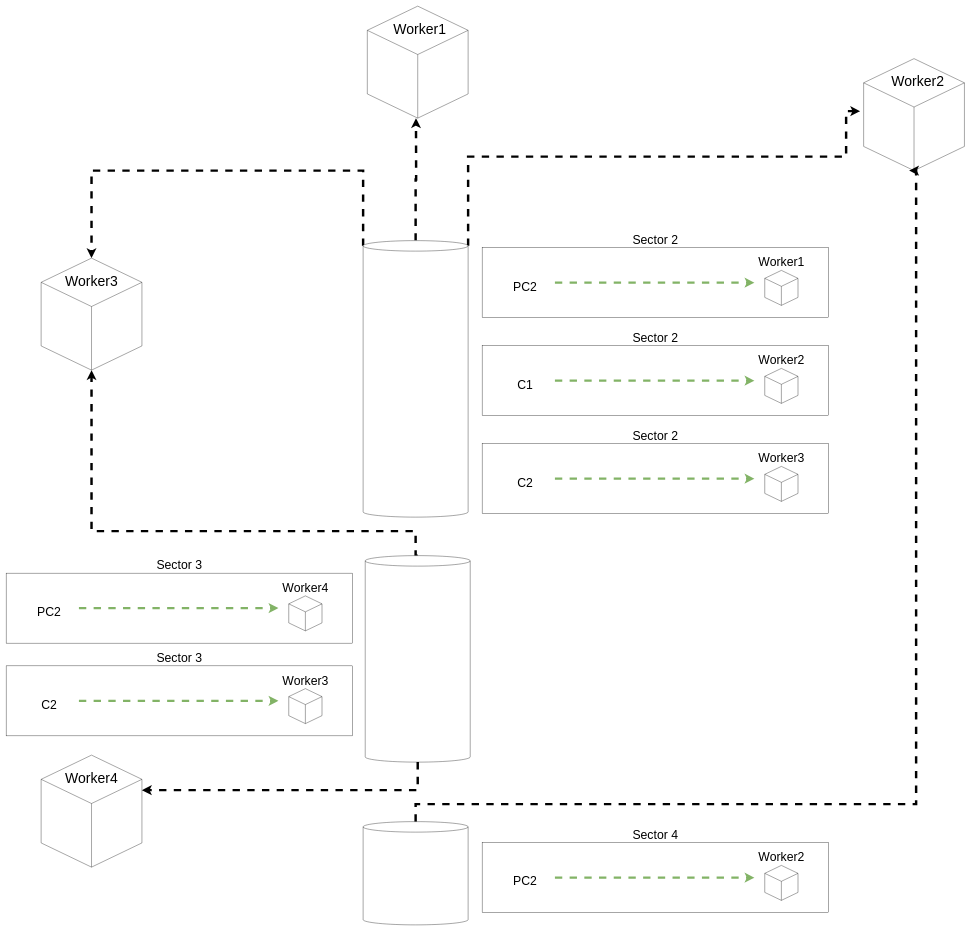
Some shapes in this 971 by 931 pixel diagram are drawn without their labels. The shapes that lost their labels are listed below. From the top down, each one's centre as x and y in pixels, then its label:
[415,378]: S2
[417,658]: S3
[415,873]: S4
